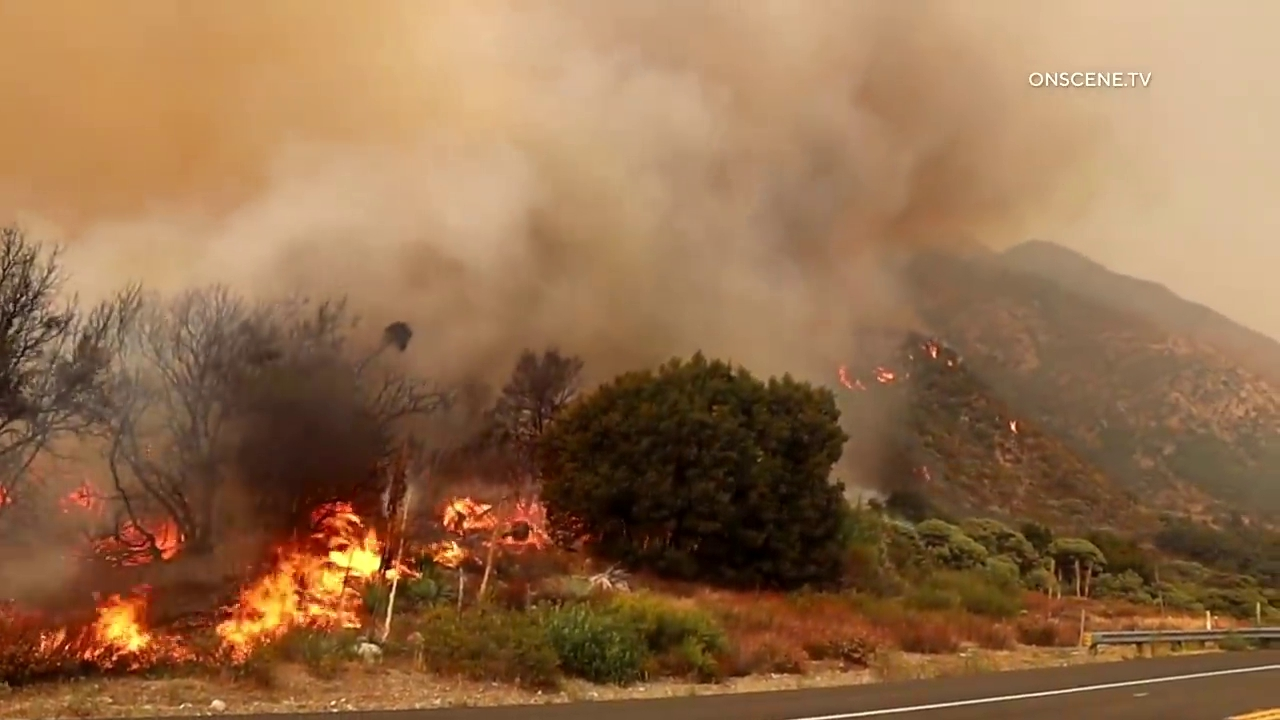forest_fire: (214, 502, 416, 656), (441, 497, 547, 548), (92, 595, 163, 656), (428, 539, 470, 568), (155, 523, 182, 559)
